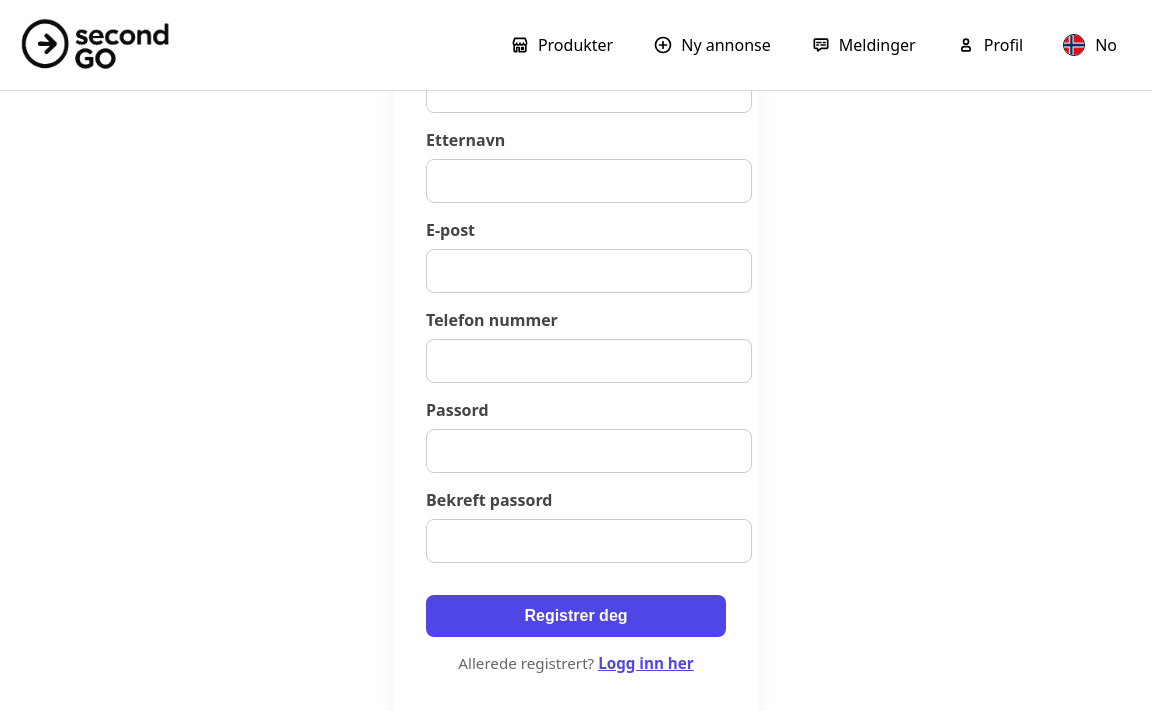
Test: Register Page › validates empty form submission
(page scrolled)
Click the submit button at (576, 616), box [426, 595, 726, 637]
(page scrolled)
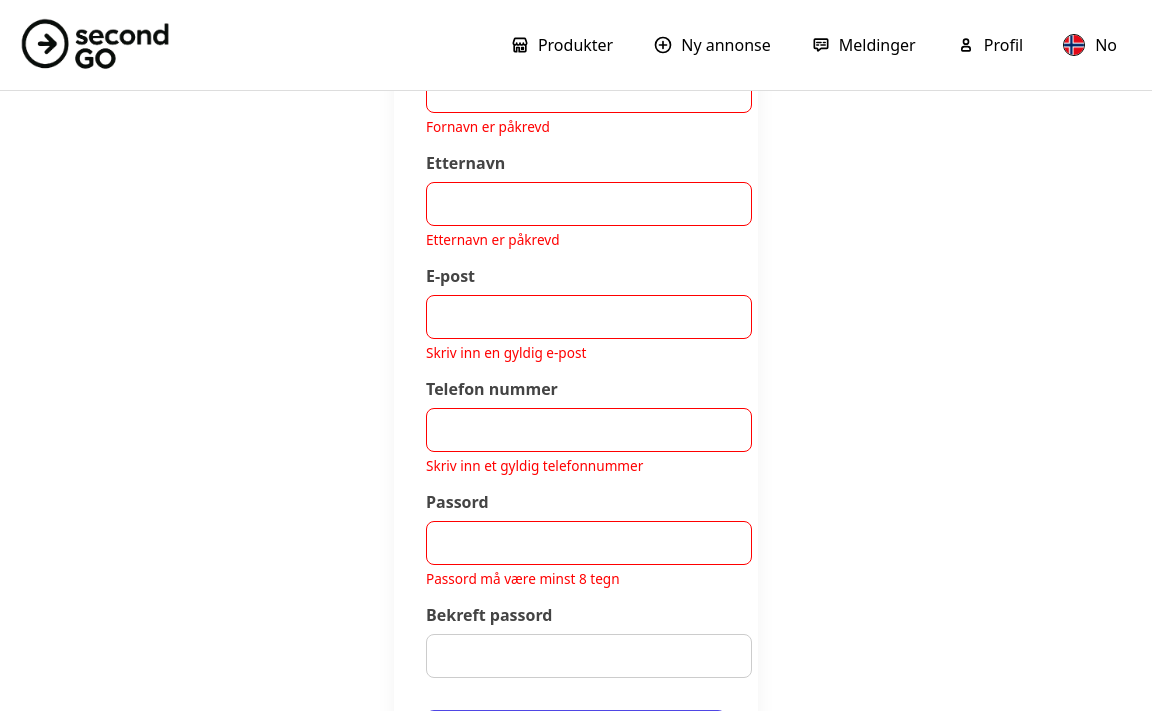
Now the text "Fornavn er påkrevd" is shown, box [426, 117, 550, 136]
Now the text "Etternavn er påkrevd" is shown, box [426, 230, 560, 249]
Now the text "Skriv inn en gyldig e-post" is shown, box [426, 343, 586, 362]
